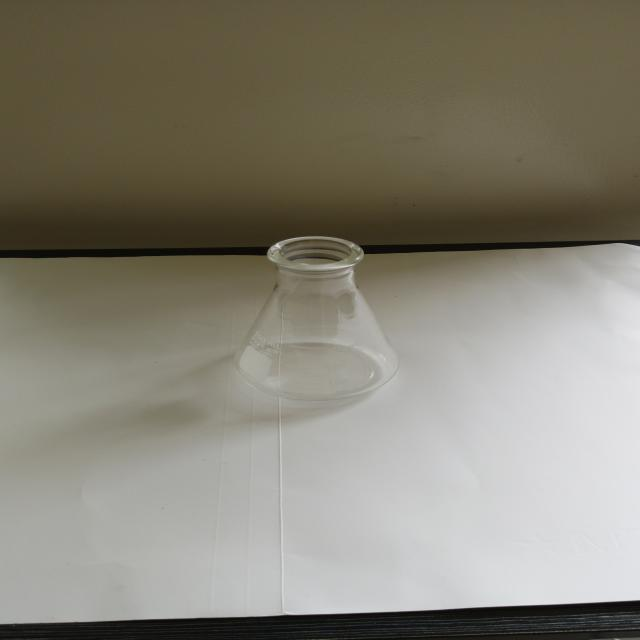erlenmeyer_flask: (216, 226, 420, 407)
